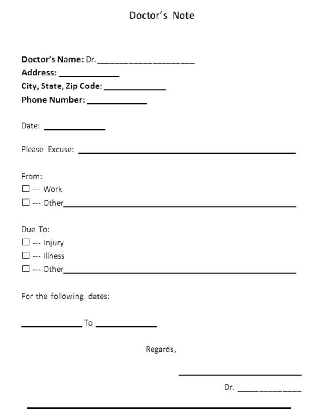checkbox: (21, 197, 32, 208), (20, 250, 31, 260), (21, 184, 31, 194), (21, 236, 31, 246), (21, 264, 31, 273)
textline: (60, 259, 300, 278), (61, 195, 299, 210), (75, 141, 299, 156), (175, 363, 304, 378), (95, 53, 197, 67), (101, 79, 169, 93), (18, 316, 84, 330), (235, 382, 304, 395), (57, 66, 122, 79), (94, 316, 159, 329), (84, 94, 148, 107), (40, 120, 109, 132)
